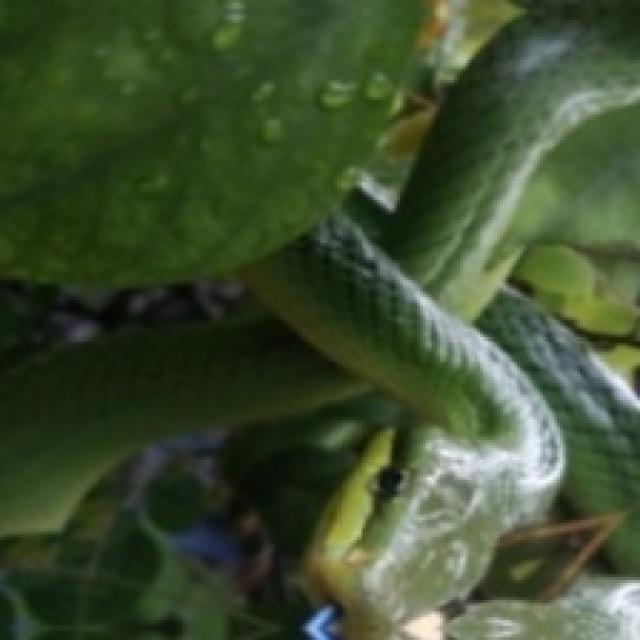red-tailed green ratsnake: (0, 22, 640, 639)
